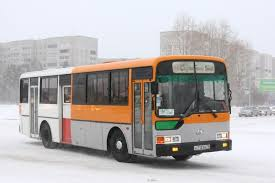entrance: (131, 80, 154, 156)
